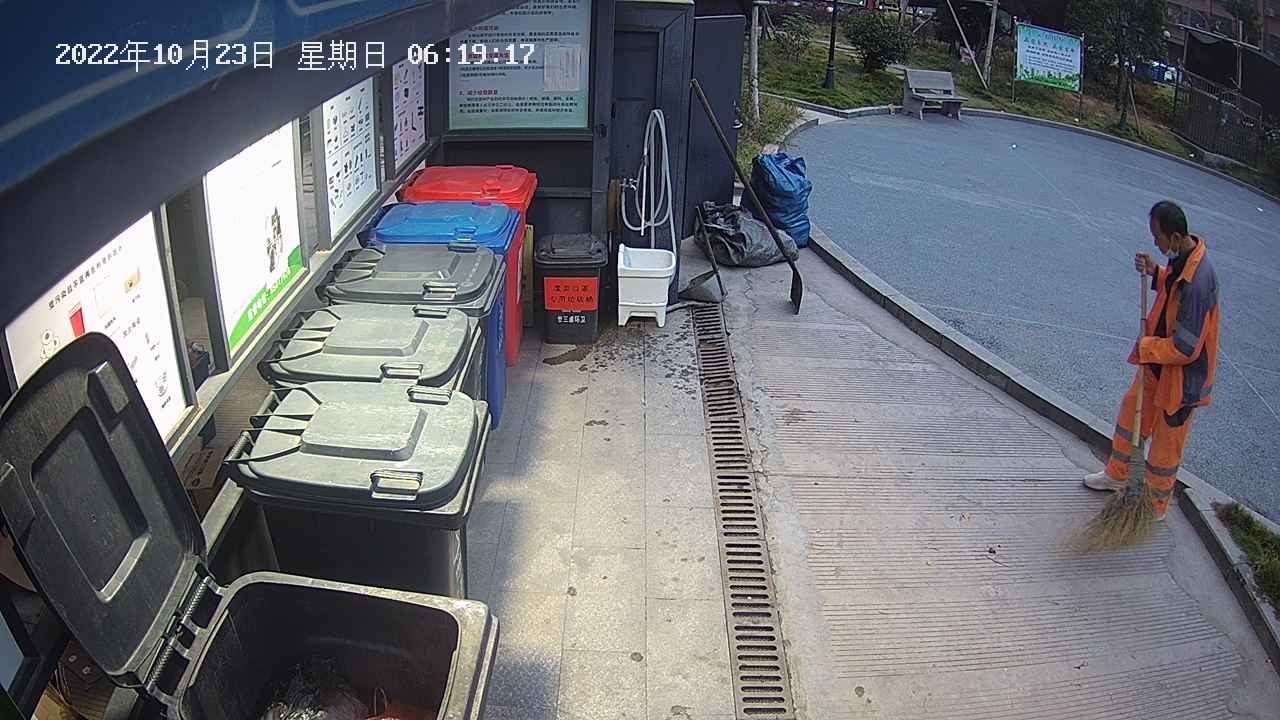worker: (1078, 195, 1225, 530)
